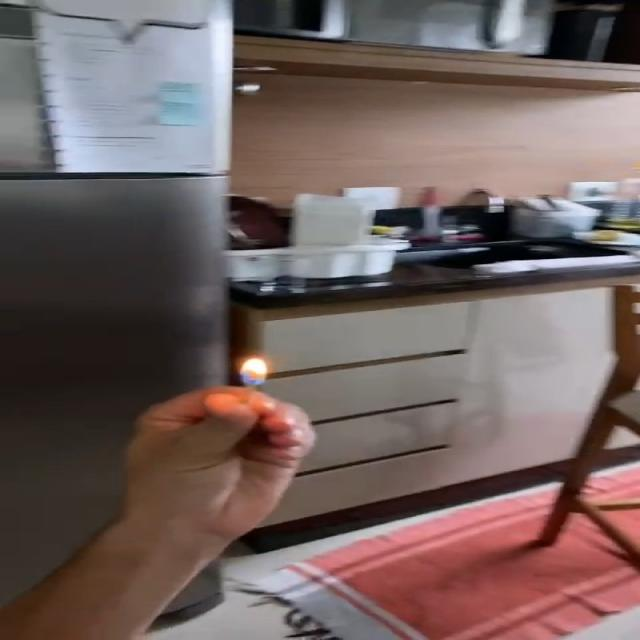fogo-ypXI: (240, 357, 268, 387)
